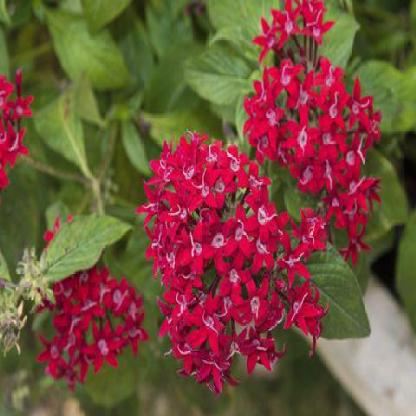other: (142, 141, 336, 397), (248, 1, 388, 244), (24, 260, 151, 366), (0, 61, 23, 190)
